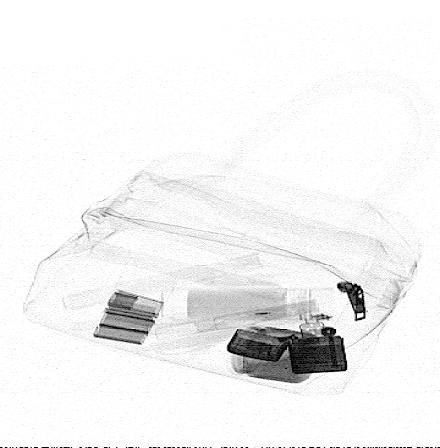Lighter: (225, 321, 348, 375)
